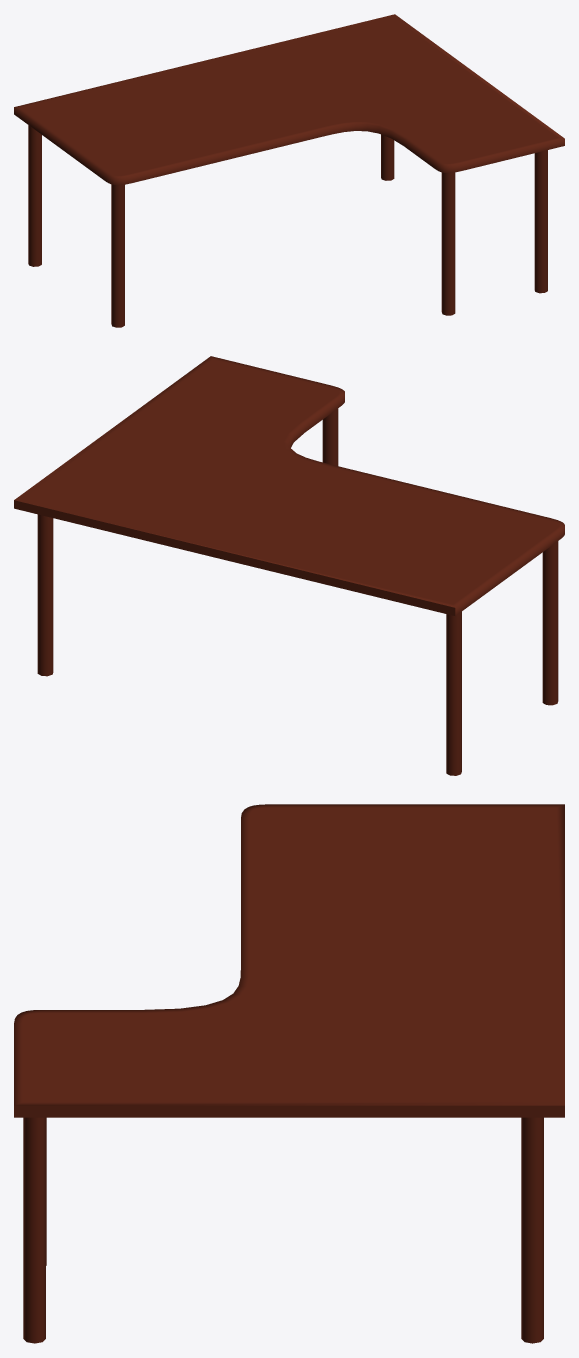
The model's file is table01.fbx.
3 renders of one model, top to bottom at view 1: azimuth 30°, elevation 25°; view 2: azimuth 150°, elevation 25°; view 3: azimuth 270°, elevation 25°, orthographic. The views are drawn at different scales.
Parts seen in each view (by area): view 1: table01; view 2: table01; view 3: table01.
Boxes of the visible parts, x1=… form: table01: x1=14, y1=14, x2=564, y2=327; table01: x1=14, y1=356, x2=564, y2=775; table01: x1=14, y1=804, x2=564, y2=1343.
Size of the model in its own units: 86.61 by 66.93 by 33.07.
